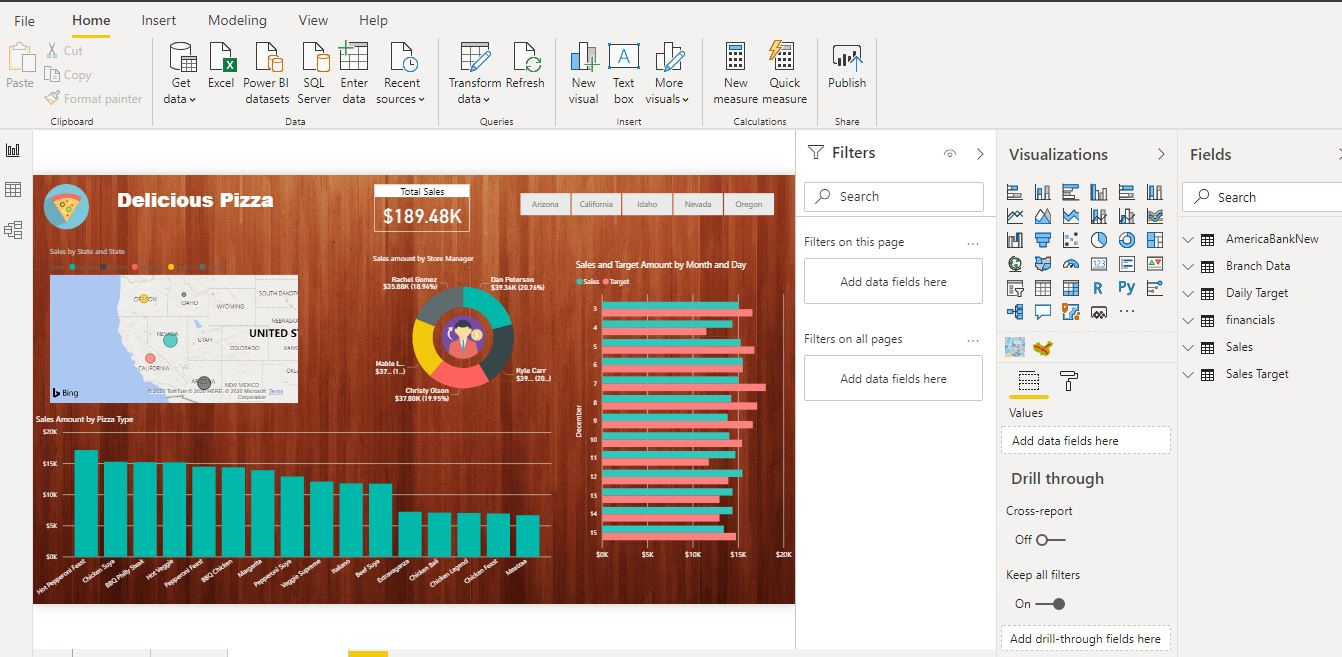

The page's visual inventory and layout, read from the dashboard file:
{"tool":"powerbi","page":{"name":"Delicious Pizza ","canvas":[1280,720],"ordinal":2},"visuals":[{"type":"card","title":"Total Sales","fields":{"Values":["Sales.Sales"]},"box":[572.8,14.9,160.8,79.7],"z":0},{"type":"slicer","fields":{"Values":["Sales.Branch"]},"box":[792.9,23,475.5,51.3],"z":1000},{"type":"clusteredBarChart","title":"Sales and Target Amount by Month and Day","fields":{"Y":["Sales.Sales","Daily Target.Target"],"Category":["Daily Target.Date.Variation.Date Hierarchy.Year","Daily Target.Date.Variation.Date Hierarchy.Quarter","Daily Target.Date.Variation.Date Hierarchy.Month","Daily Target.Date.Variation.Date Hierarchy.Day"]},"box":[907.7,139.7,372.6,516.4],"z":2000},{"type":"donutChart","title":"Sales amount by Store Manager","fields":{"Category":["Branch Data.Manager Name"],"Y":["Sales.Sales"]},"box":[565.6,131.8,312.8,267.5],"z":3000},{"type":"clusteredColumnChart","title":"Sales Amount by Pizza Type","fields":{"Category":["Sales Target.Pizza Type"],"Y":["Sales.Sales"]},"box":[0,401.9,875.7,318.1],"z":4000},{"type":"textbox","box":[136.4,13.5,302.6,93.2],"z":5000},{"type":"image","box":[10.8,10.8,90.5,86.5],"z":6000},{"type":"image","box":[678.7,230.2,86.5,83.8],"z":7000},{"type":"map","fields":{"Size":["Sales.Sales"],"Series":["Branch Data.Branch Name"],"Category":["Branch Data.Branch Name"]},"box":[24,118.4,427.2,268.8],"z":8000}]}

Visuals, with their boxes on the page's 1280x720 design canvas (x1, y1, x2, y2). These are canvas units, not pixel positions in the 1342x657 screenshot, which may show the page scaled, cropped or inside an application window:
"Total Sales" card: bbox=[573, 15, 734, 95]
slicer - Sales.Branch: bbox=[793, 23, 1268, 74]
"Sales and Target Amount by Month and Day" clusteredBarChart: bbox=[908, 140, 1280, 656]
"Sales amount by Store Manager" donutChart: bbox=[566, 132, 878, 399]
"Sales Amount by Pizza Type" clusteredColumnChart: bbox=[0, 402, 876, 720]
textbox: bbox=[136, 14, 439, 107]
image: bbox=[11, 11, 101, 97]
image: bbox=[679, 230, 765, 314]
map - Sales.Sales x Branch Data.Branch Name: bbox=[24, 118, 451, 387]
